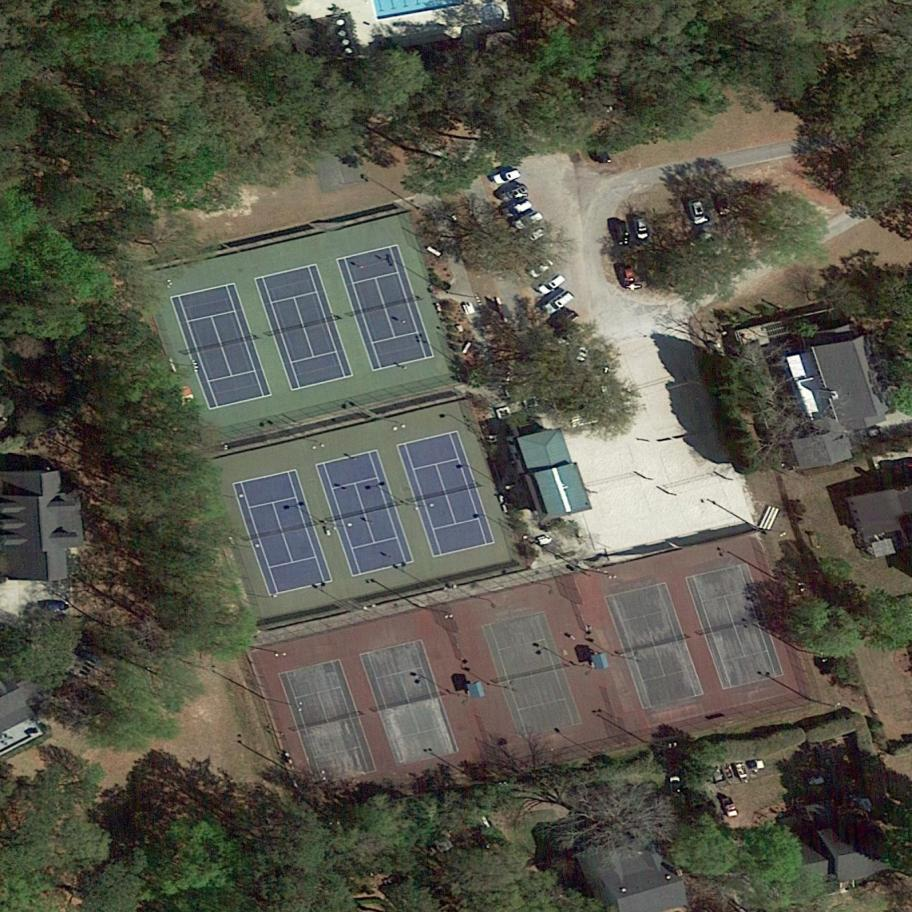small-vehicle: (546, 302, 581, 334), (534, 269, 567, 299), (542, 287, 576, 316), (513, 208, 545, 234), (502, 196, 533, 222), (560, 317, 587, 345), (526, 255, 555, 281), (490, 165, 521, 187), (498, 183, 529, 205), (612, 220, 632, 250), (571, 340, 593, 367), (688, 198, 709, 226), (618, 262, 638, 291), (720, 794, 740, 821), (633, 216, 652, 242)
